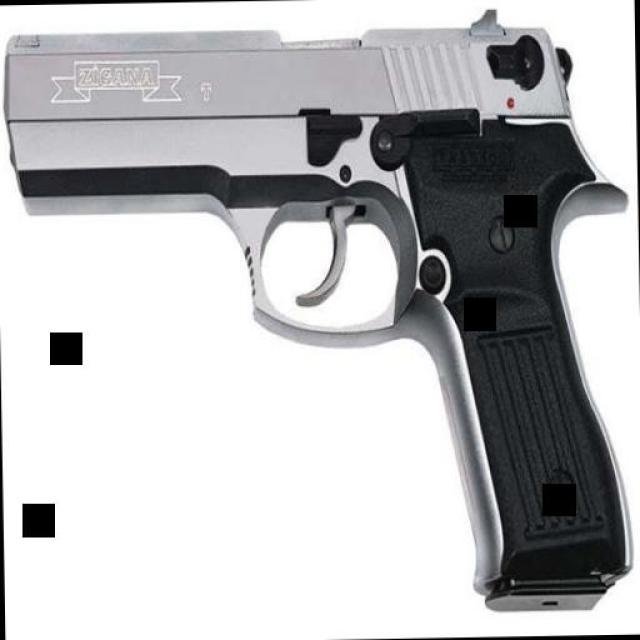gun: (0, 4, 630, 621)
